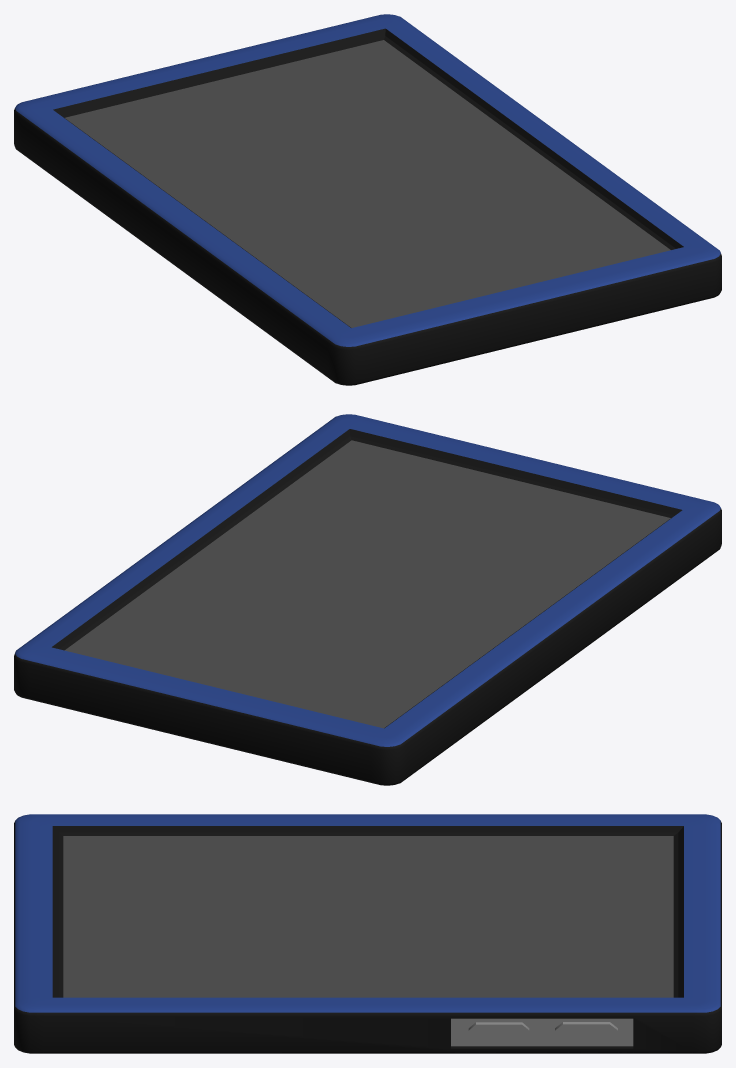
The model's file is Cell Phone.FBX.
3 renders of one model, top to bottom at view 1: azimuth 30°, elevation 25°; view 2: azimuth 150°, elevation 25°; view 3: azimuth 270°, elevation 25°, orthographic. The views are drawn at different scales.
Visible parts, largest first — view 1: Box001; view 2: Box001; view 3: Box001.
Part boxes in pixels (bbox=[...]): Box001: bbox=[14, 14, 721, 385]; Box001: bbox=[14, 414, 721, 785]; Box001: bbox=[14, 814, 721, 1053].
Bounding box in the file's own units: 40 × 4.21 × 60.
